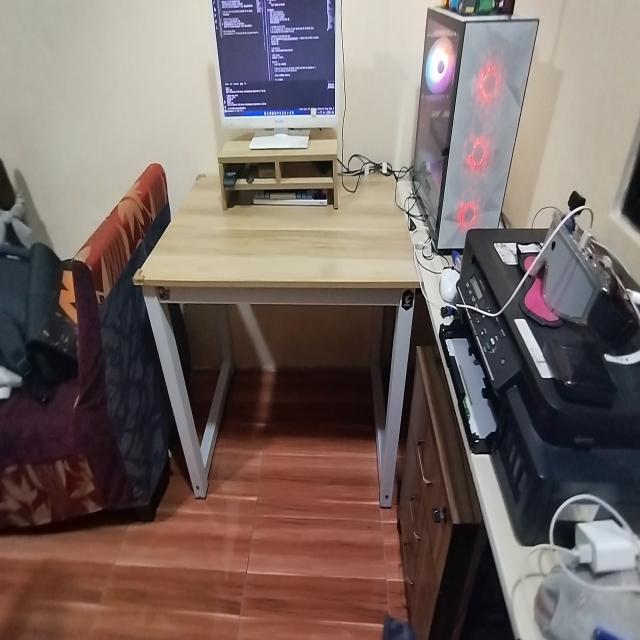table: (148, 156, 416, 520)
